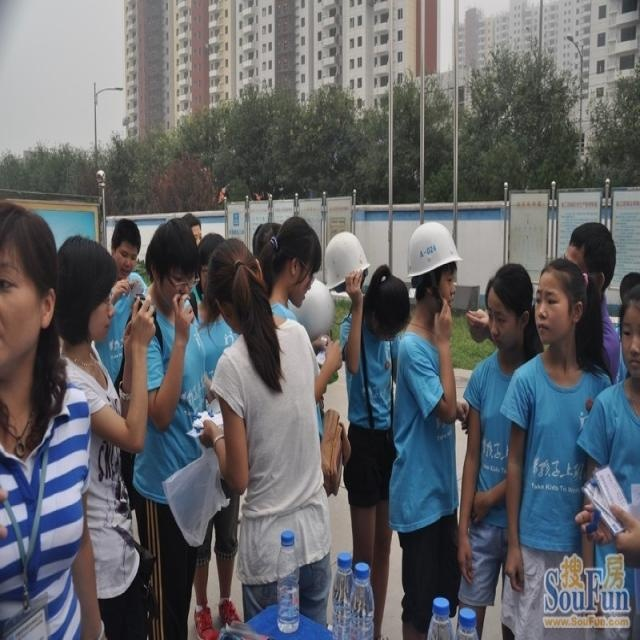Con_Casco: (408, 221, 461, 307), (324, 231, 370, 299)
Sin_Casco_Mascarrilla: (483, 265, 537, 354)
